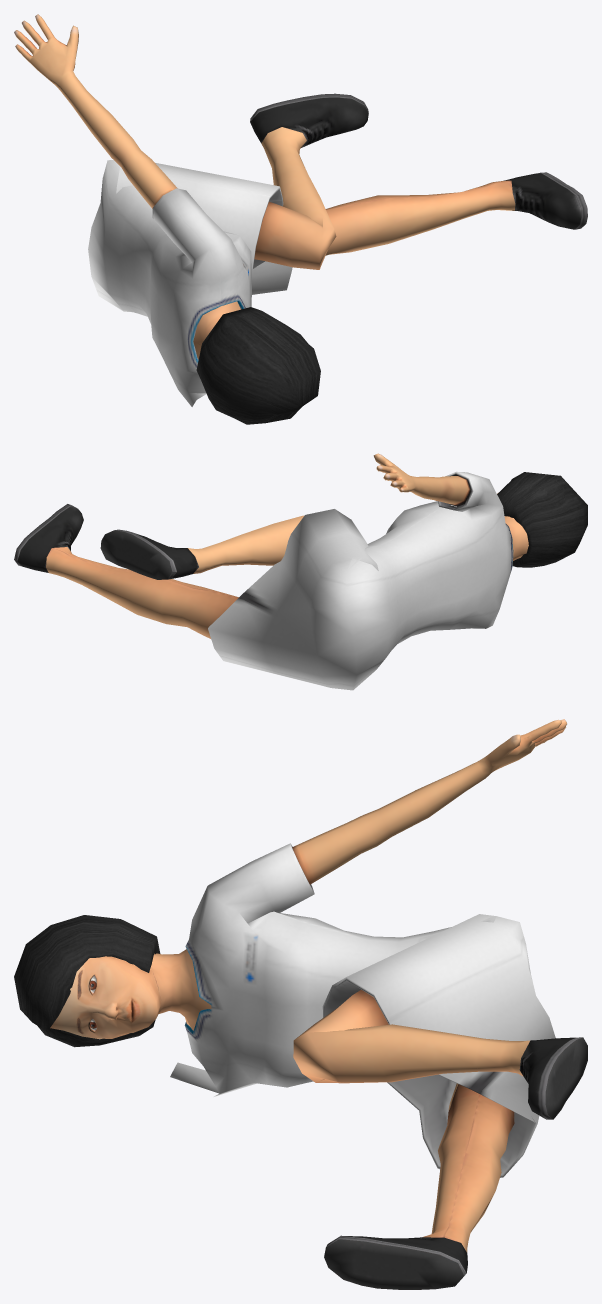
File: nurse_seated_waving.glb
The picture shows the model from 3 angles, top to bottom: view 1: azimuth 30°, elevation 25°; view 2: azimuth 150°, elevation 25°; view 3: azimuth 270°, elevation 25°; orthographic projection. The views are drawn at different scales.
Parts seen in each view (by area): view 1: world; view 2: world; view 3: world.
Boxes of the visible parts, <box> form: world: <box>14,14,587,424</box>; world: <box>14,453,587,690</box>; world: <box>14,719,587,1289</box>.
Size of the model in its own units: 1.02 by 0.6064 by 0.8837.
Materials: 1 (1 with a texture image).
